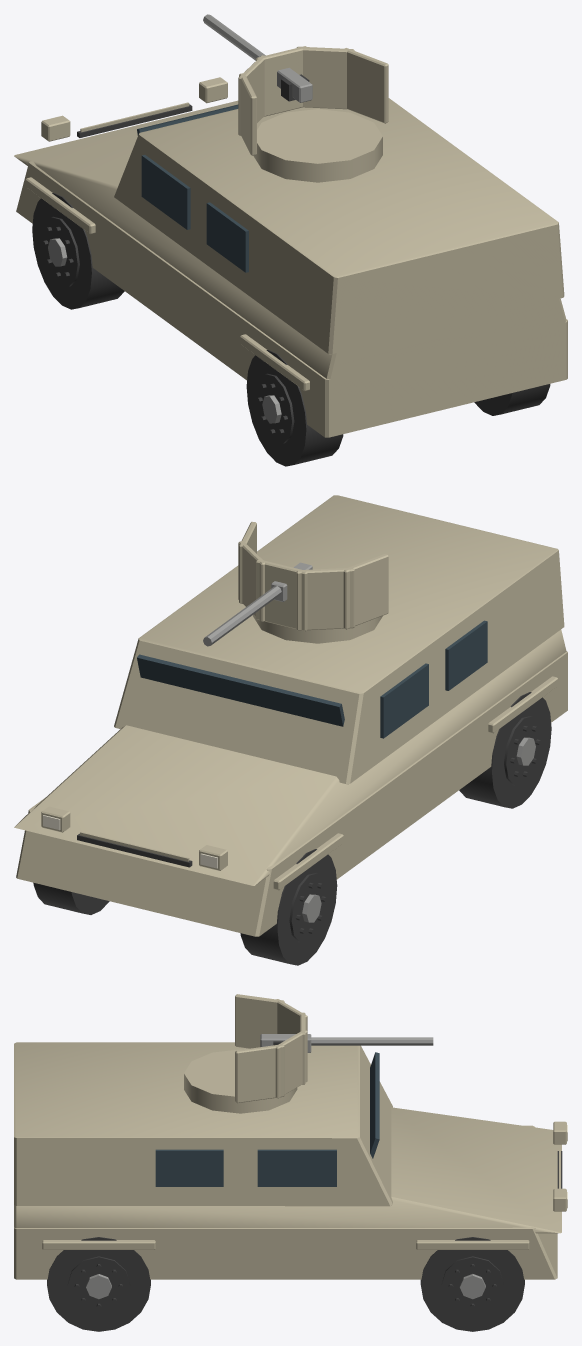
File: usa_lv_m1151.glb
The picture shows the model from 3 angles, top to bottom: view 1: azimuth 30°, elevation 25°; view 2: azimuth 150°, elevation 25°; view 3: azimuth 270°, elevation 25°; orthographic projection. The views are drawn at different scales.
Visible parts, largest first — view 1: body, turret, wheel_2, wheel_0, barrel, wheel_3; view 2: body, turret, wheel_0, wheel_2, barrel, wheel_1; view 3: body, turret, wheel_1, wheel_3, barrel.
Boxes of the visible parts, box(x1,y1,x2,y2) form: body: box(14, 77, 567, 437); turret: box(238, 46, 388, 182); wheel_2: box(246, 350, 343, 466); wheel_0: box(32, 193, 124, 309); barrel: box(203, 14, 312, 102); wheel_3: box(474, 384, 550, 415); body: box(14, 495, 567, 936); turret: box(238, 521, 388, 643); wheel_0: box(240, 849, 337, 965); wheel_2: box(459, 692, 551, 808); barrel: box(203, 562, 312, 646); wheel_1: box(33, 882, 109, 914); body: box(14, 1042, 567, 1279); turret: box(184, 994, 307, 1113); wheel_1: box(420, 1237, 524, 1331); wheel_3: box(47, 1237, 150, 1331); barrel: box(260, 1034, 433, 1052).
Bounding box in the file's own units: 2.3 × 2.5 × 4.89.
